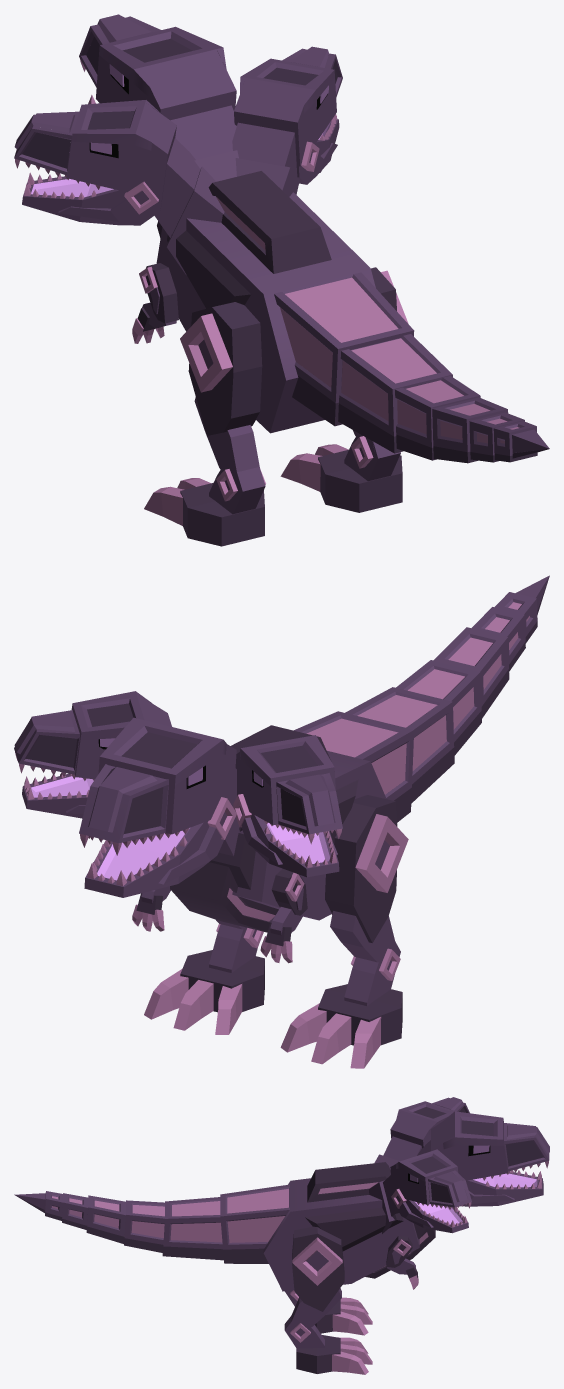
The model's file is cyber_t_rex.obj.
The picture shows the model from 3 angles, top to bottom: view 1: azimuth 30°, elevation 25°; view 2: azimuth 150°, elevation 25°; view 3: azimuth 270°, elevation 25°; orthographic projection. The views are drawn at different scales.
Visible parts, largest first — view 1: Torso, Head, Tail, LeftLeg, Meshes/set_10_trex_035 (1), LeftFoot, RightFoot, Meshes/set_10_trex_036 (1), Meshes/set_10_trex_028, Neck, LeftAltLeg, LeftBottomLeg (+7 smaller); view 2: Torso, Head, LeftLeg, LeftFoot, RightFoot, Tail, Meshes/set_10_trex_035 (1), Meshes/set_10_trex_036 (1), Meshes/set_10_trex_028, LeftBottomLeg, RightBottomLeg, LeftAltLeg (+5 smaller); view 3: Torso, Head, Tail, RightLeg, Meshes/set_10_trex_035 (1), RightFoot, Meshes/set_10_trex_036 (1), Meshes/set_10_trex_028, LeftFoot, RightBottomLeg, Meshes/set_10_trex_027, RightAltLeg (+3 smaller).
Boxes of the visible parts, x1,y1,x2,y2 form: Torso: (14,46,375,433); Head: (79,14,236,120); Tail: (274,272,414,426); LeftLeg: (180,302,262,435); Meshes/set_10_trex_035 (1): (338,334,452,453); LeftFoot: (144,478,264,546); RightFoot: (280,444,402,512); Meshes/set_10_trex_036 (1): (395,376,480,460); Meshes/set_10_trex_028: (432,397,508,463); Neck: (170,105,236,159); LeftAltLeg: (194,397,259,485); LeftBottomLeg: (209,463,265,514); Torso: (14,691,386,932); Head: (79,717,236,897); LeftLeg: (325,795,408,942); LeftFoot: (280,984,402,1068); RightFoot: (144,950,264,1034); Tail: (293,711,414,822); Meshes/set_10_trex_035 (1): (345,687,454,803); Meshes/set_10_trex_036 (1): (396,660,481,755); Meshes/set_10_trex_028: (433,627,509,718); LeftBottomLeg: (344,941,400,1005); RightBottomLeg: (209,924,263,972); LeftAltLeg: (330,911,394,962); Torso: (263,1097,471,1291); Head: (431,1111,549,1206); Tail: (220,1184,289,1263); RightLeg: (292,1226,344,1311); Meshes/set_10_trex_035 (1): (162,1197,223,1260); RightFoot: (296,1335,372,1374); Meshes/set_10_trex_036 (1): (124,1200,164,1252); Meshes/set_10_trex_028: (86,1195,125,1243); LeftFoot: (315,1297,372,1335); RightBottomLeg: (284,1315,324,1348); Meshes/set_10_trex_027: (62,1193,88,1229); RightAltLeg: (289,1288,341,1330).
Bounding box in the file's own units: 13.35 × 14.3 × 31.74.
